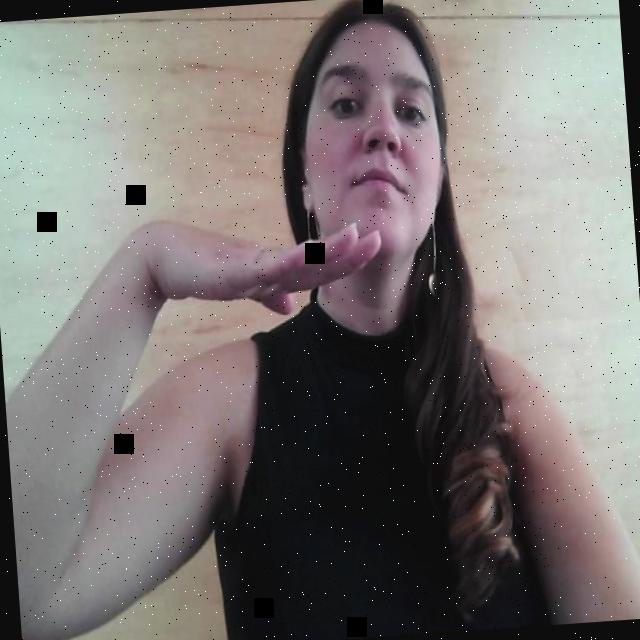Paper: (147, 193, 388, 333)
